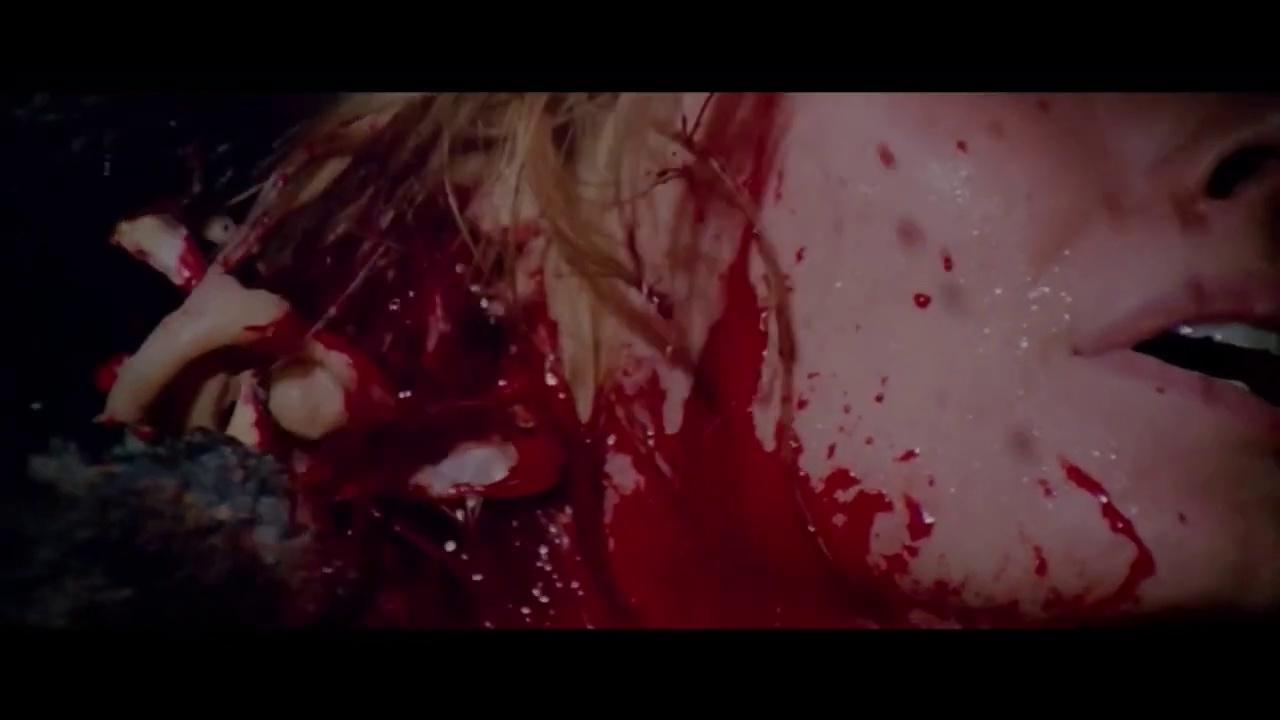Fire: (0, 95, 1262, 628)
